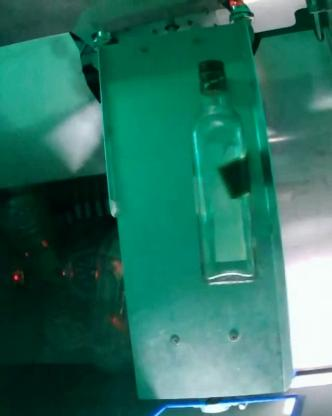Glass Bottle: (194, 61, 256, 286)
